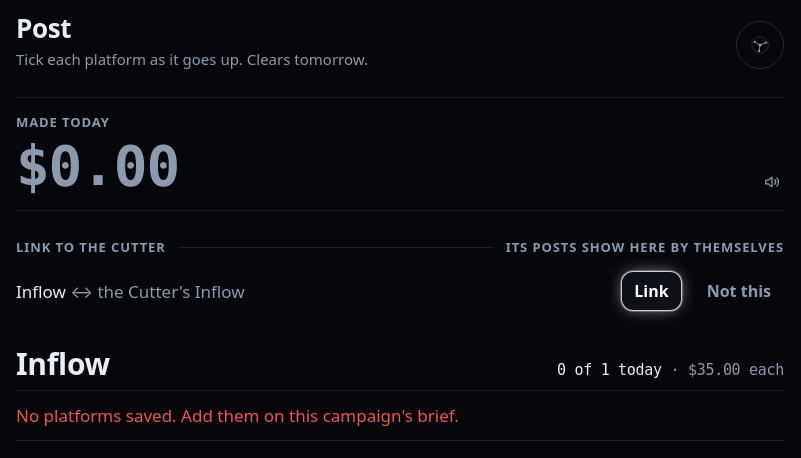
Test case: linking to the cutter › suggests a cutter campaign of the same name and links it with one tap
expect the heading "Link to the Cutter" is shown: met, box [16,239,166,255]
Click the button "Link": (652, 291) [621,271,682,311]
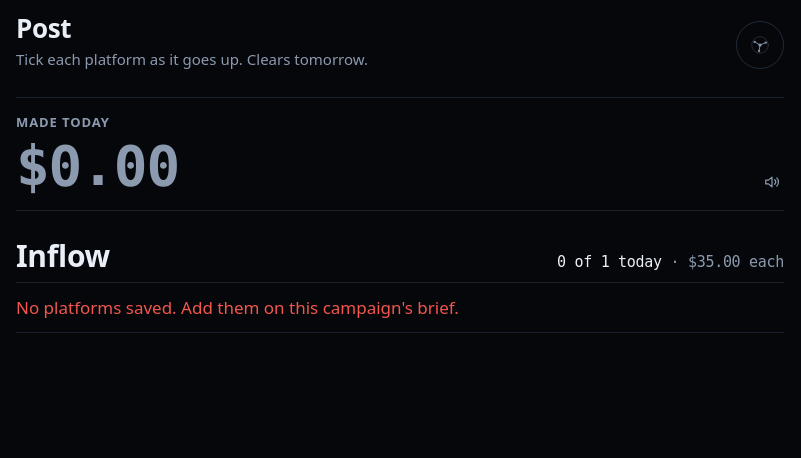
expect the heading "Link" is gone: met
